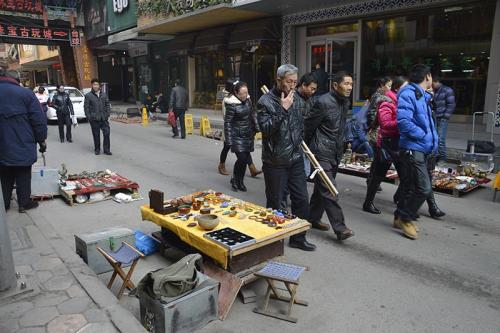vendors: (72, 185, 313, 331), (336, 140, 492, 199), (30, 161, 142, 206), (107, 111, 153, 124)
